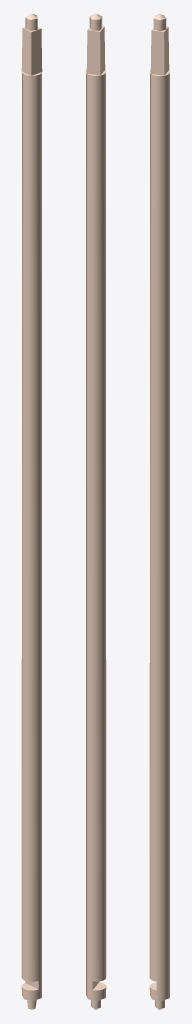
File: Marteau - axe_Heures.obj
3 views of the same model, side by side, from view 1: azimuth 30°, elevation 25°; view 2: azimuth 150°, elevation 25°; view 3: azimuth 330°, elevation 25° (orthographic).
Visible parts, largest first — view 1: Face_1, Face_7, Face_8, Face_13; view 2: Face_1, Face_9, Face_8, Face_13; view 3: Face_1, Face_7, Face_10, Face_13.
Boxes of the visible parts, box(x1,y1,x2,y2) form: Face_1: box(21, 73, 41, 1000); Face_7: box(31, 28, 42, 75); Face_8: box(21, 28, 31, 75); Face_13: box(25, 17, 37, 30); Face_1: box(86, 73, 106, 1000); Face_9: box(86, 30, 100, 75); Face_8: box(100, 27, 105, 74); Face_13: box(89, 17, 102, 30); Face_1: box(149, 73, 169, 1000); Face_7: box(150, 30, 164, 75); Face_10: box(164, 27, 169, 75); Face_13: box(153, 18, 166, 31).
Size of the model in its own units: 0.00541 by 0.2878 by 0.00541.
